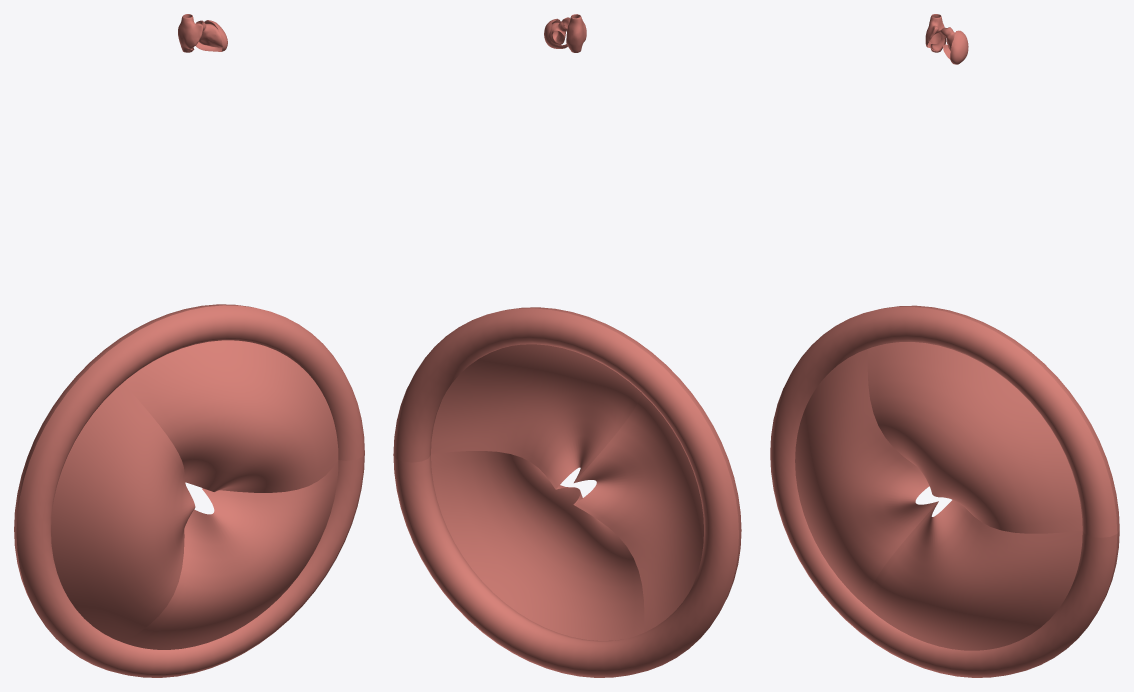
The picture shows the model from 3 angles, left to right: view 1: azimuth 30°, elevation 25°; view 2: azimuth 150°, elevation 25°; view 3: azimuth 330°, elevation 25°; orthographic projection.
Parts seen in each view (by area): view 1: aortic-valve, left-ventricle, right-atrium; view 2: aortic-valve, left-ventricle, right-atrium; view 3: aortic-valve, left-ventricle, right-atrium.
Boxes of the visible parts, bbox=[...] form: aortic-valve: bbox=[14, 304, 364, 677]; left-ventricle: bbox=[195, 20, 227, 51]; right-atrium: bbox=[178, 14, 203, 52]; aortic-valve: bbox=[393, 307, 741, 677]; left-ventricle: bbox=[544, 17, 570, 48]; right-atrium: bbox=[566, 14, 586, 52]; aortic-valve: bbox=[770, 305, 1119, 677]; left-ventricle: bbox=[939, 27, 968, 64]; right-atrium: bbox=[925, 14, 946, 52].
Size of the model in its own units: 1.02 by 1.85 by 0.2261.
